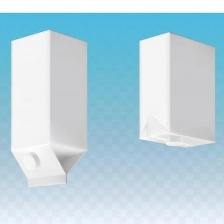carton: (4, 26, 91, 189), (135, 29, 220, 154)
